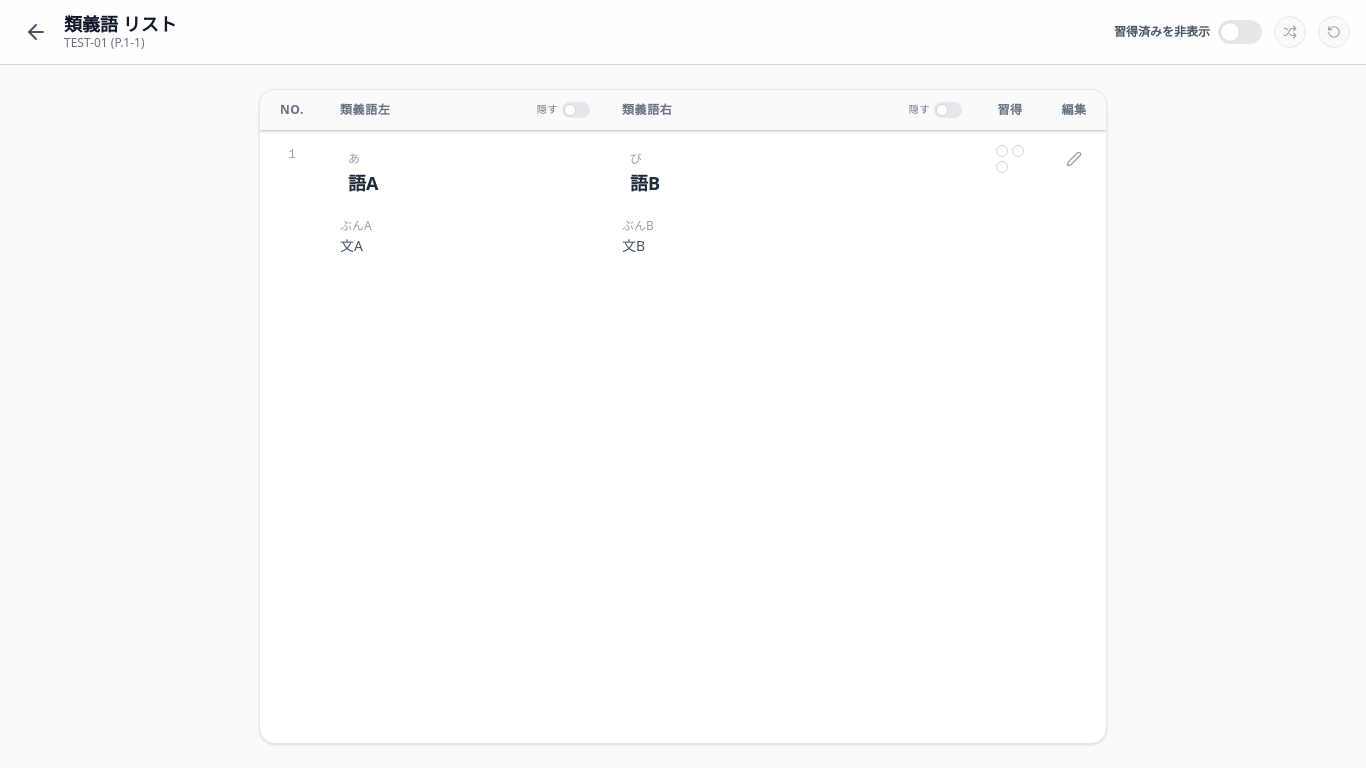
Scenario: WordList › 類義語編集で出題文よみがなの入力が表示される
Expected: the text "語A" is shown, [348,171,378,195]
Click the button with class "lucide-pen": {"x": 1074, "y": 159} [1058,143,1090,175]
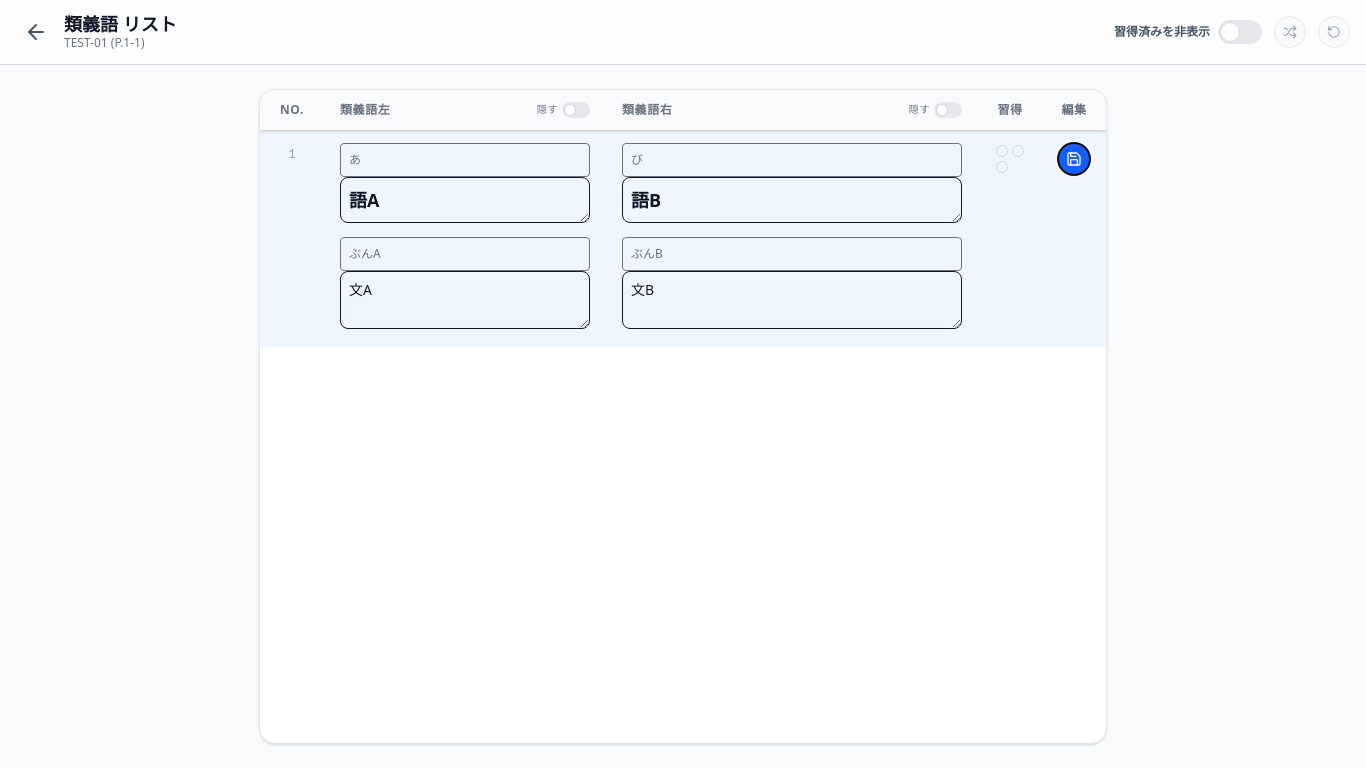
Expected: the icon with class "lucide-save" is shown, [1066,151,1082,167]
Now the 3rd field is shown, box [340,237,590,271]
